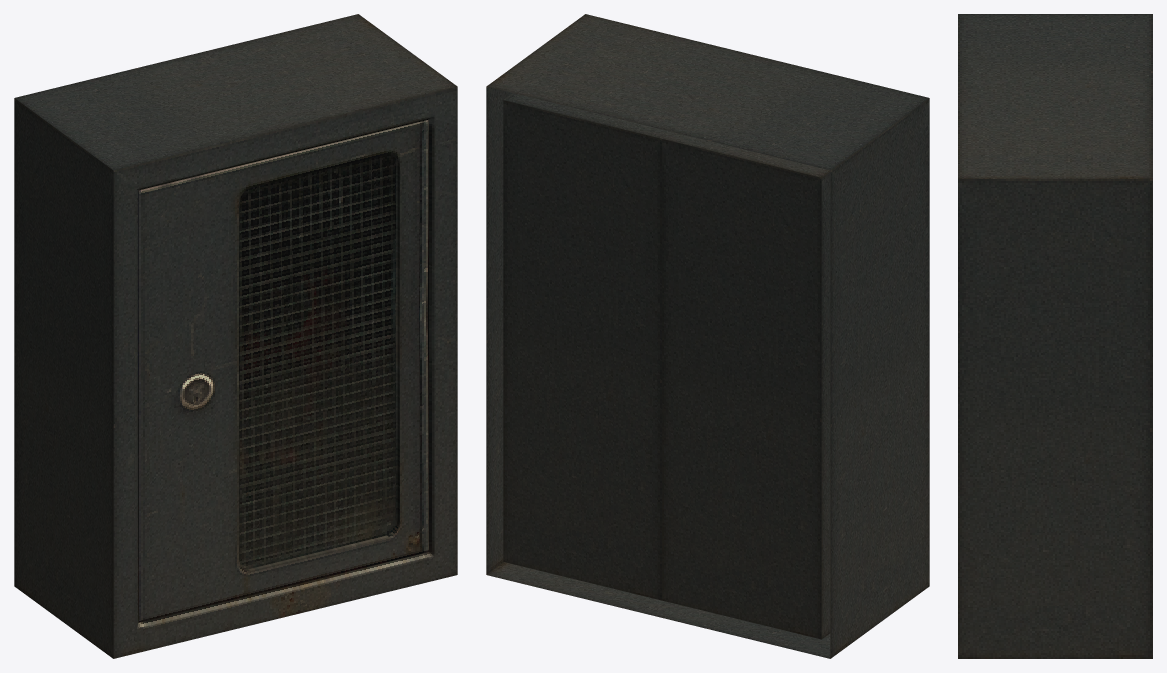
The model's file is wall_box_1.glb.
3 views of the same model, side by side, from view 1: azimuth 30°, elevation 25°; view 2: azimuth 150°, elevation 25°; view 3: azimuth 270°, elevation 25° (orthographic).
Visible parts, largest first — view 1: wall_box_1_door, wall_box_1; view 2: wall_box_1; view 3: wall_box_1.
Part boxes in pixels (x1,y1,x2,y2): wall_box_1_door: [138, 119, 428, 622]; wall_box_1: [14, 14, 457, 658]; wall_box_1: [486, 14, 929, 658]; wall_box_1: [958, 14, 1152, 658].
Bounding box in the file's own units: 0.491 × 0.666 × 0.245.
Materials: 3 (3 with a texture image).
